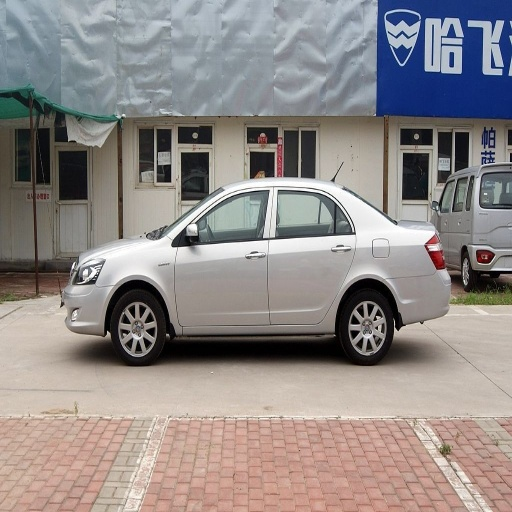back_left_door: (268, 187, 357, 323)
front_left_door: (175, 188, 273, 327)
